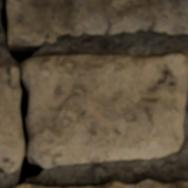brick: (8, 0, 187, 42), (86, 181, 187, 187), (14, 184, 45, 187)
broken_brick: (26, 53, 187, 169), (0, 63, 23, 173)
crack: (0, 0, 44, 186)
